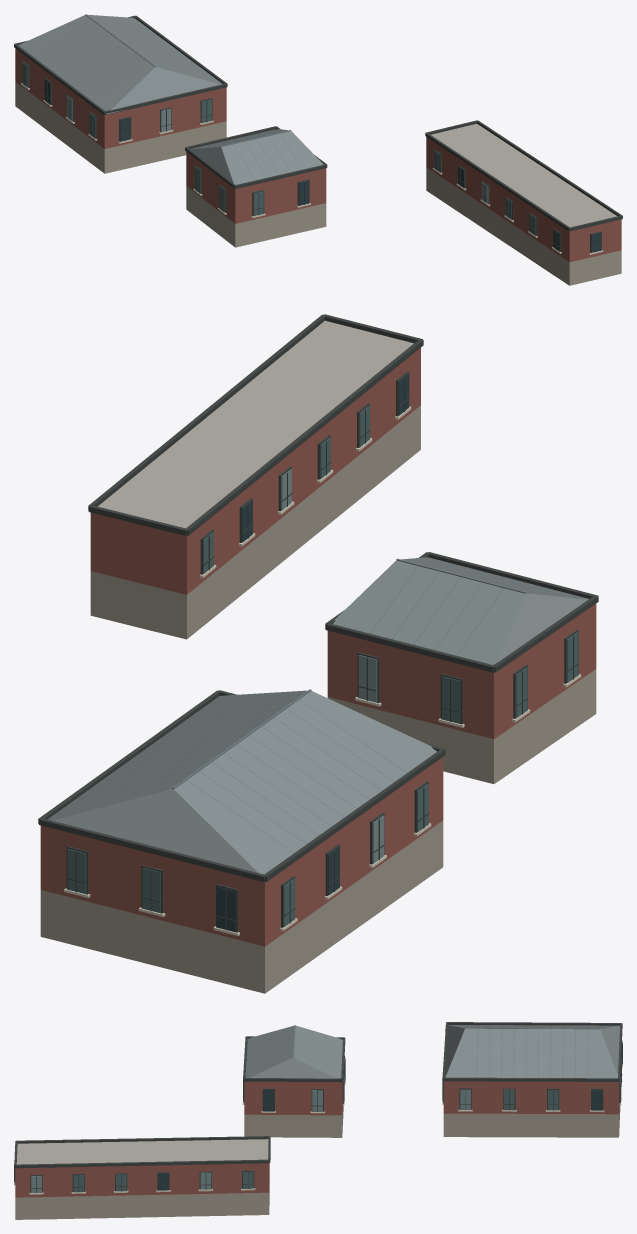
File: lafayette-athletics-3_4.glb
3 views of the same model, one above another, from view 1: azimuth 30°, elevation 25°; view 2: azimuth 150°, elevation 25°; view 3: azimuth 270°, elevation 25° (orthographic). The views are drawn at different scales.
Parts seen in each view (by area): view 1: 634377439 | Shell and foundation, 634377439 | Roof, 634377439 | Facades; view 2: 634377439 | Shell and foundation, 634377439 | Roof, 634377439 | Facades; view 3: 634377439 | Shell and foundation, 634377439 | Roof, 634377439 | Facades.
Part boxes in pixels (x1,y1,x2,y2): 634377439 | Shell and foundation: (15, 48, 621, 285); 634377439 | Roof: (18, 14, 616, 227); 634377439 | Facades: (14, 15, 622, 254); 634377439 | Shell and foundation: (40, 348, 596, 993); 634377439 | Roof: (48, 320, 588, 874); 634377439 | Facades: (38, 314, 598, 935); 634377439 | Shell and foundation: (15, 1081, 620, 1219); 634377439 | Roof: (16, 1025, 619, 1164); 634377439 | Facades: (14, 1022, 622, 1194).
Bounding box in the file's own units: 24.71 × 7.26 × 46.88.
